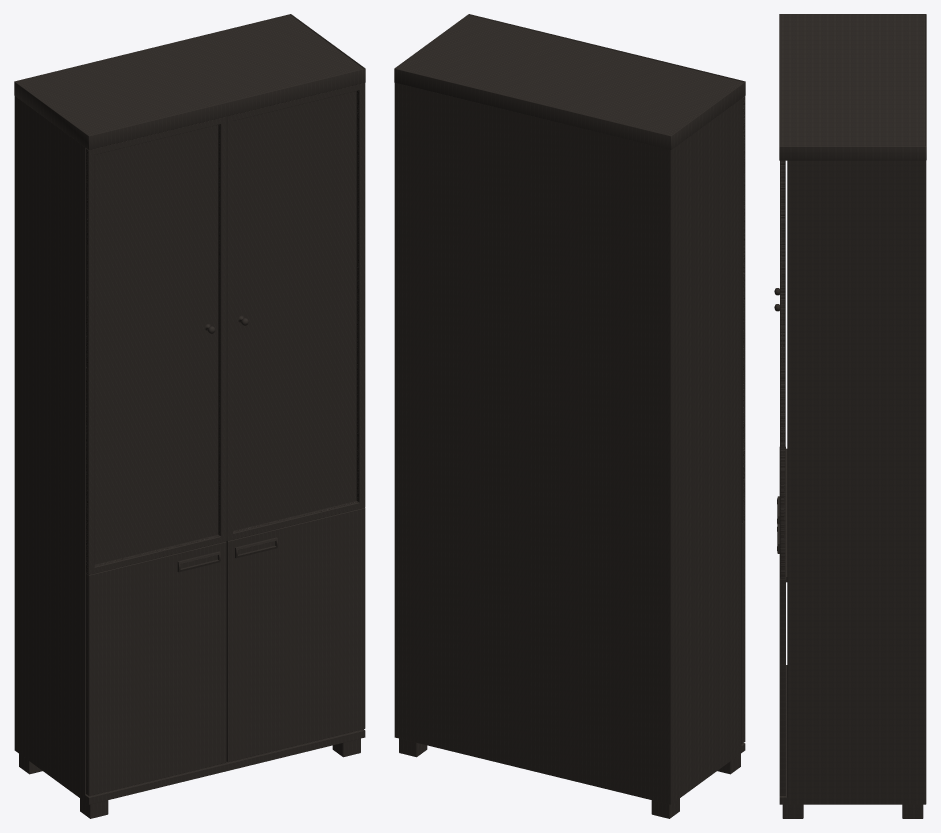
The model's file is closet1.glb.
3 views of the same model, side by side, from view 1: azimuth 30°, elevation 25°; view 2: azimuth 150°, elevation 25°; view 3: azimuth 270°, elevation 25° (orthographic).
Parts seen in each view (by area): view 1: closet 2; view 2: closet 2; view 3: closet 2.
Part boxes in pixels (box(x1,y1,x2,y2)): closet 2: box(14, 14, 365, 818); closet 2: box(394, 14, 745, 818); closet 2: box(774, 14, 926, 818).
Size of the model in its own units: 0.7945 by 1.88 by 0.384.
Materials: 1 (1 with a texture image).
